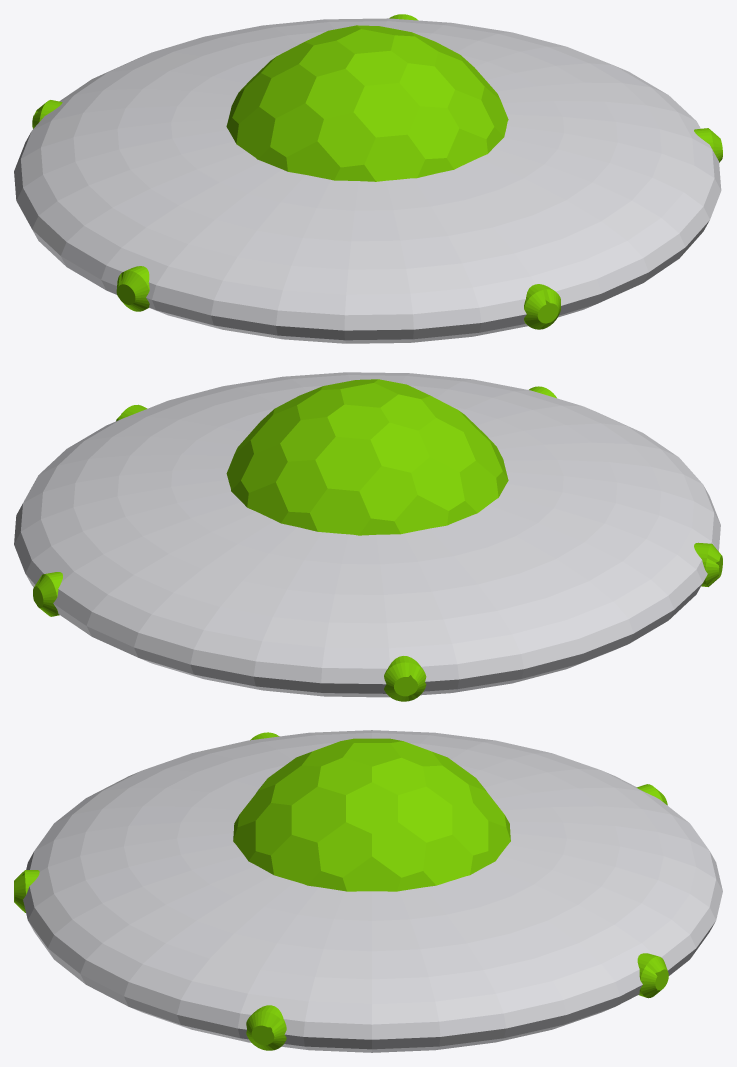
File: ufo.glb
The picture shows the model from 3 angles, top to bottom: view 1: azimuth 30°, elevation 25°; view 2: azimuth 150°, elevation 25°; view 3: azimuth 270°, elevation 25°; orthographic projection.
Parts seen in each view (by area): view 1: Body, Dome, Cylinder; view 2: Body, Dome, Cylinder; view 3: Body, Dome, Cylinder.
Boxes of the visible parts, x1,y1,x2,y2 form: Body: (14,18,721,343); Dome: (226,25,508,181); Cylinder: (32,14,722,329); Body: (14,372,720,697); Dome: (226,379,508,535); Cylinder: (33,386,722,701); Body: (23,730,722,1052); Dome: (233,738,510,891); Cylinder: (14,732,668,1050).
Bounding box in the file's own units: 6.54 × 2.84 × 6.61.
